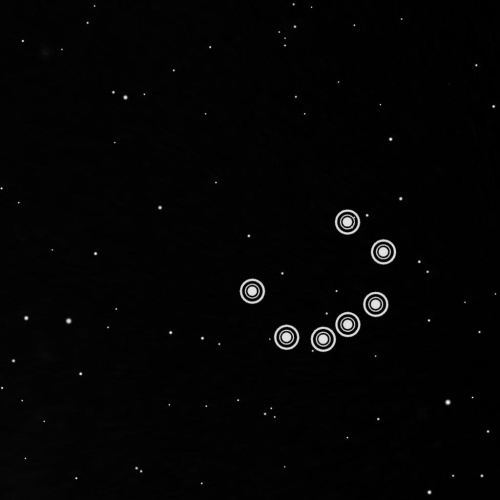corona_borealis: (233, 196, 401, 364)
